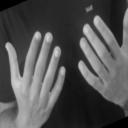hand: (4, 29, 66, 127), (76, 6, 127, 113)
